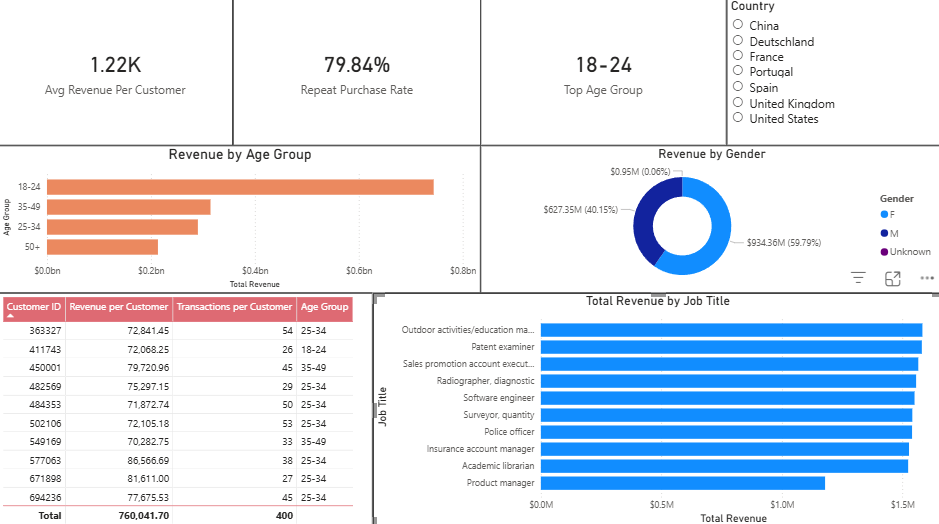

The page's visual inventory and layout, read from the dashboard file:
{"tool":"powerbi","page":{"name":"Customer Insights","canvas":[1280,720],"ordinal":1},"visuals":[{"type":"card","fields":{"Values":["customers.Avg Order Per Customer"]},"box":[0,0,318.2,200],"z":0},{"type":"listSlicer","fields":{"Values":["customers.Country"]},"box":[988.3,0,292.2,200],"z":1000},{"type":"card","fields":{"Values":["transactions.Repeat Purchase Rate"]},"box":[318.2,0,336.4,200],"z":1001},{"type":"card","fields":{"Values":["customers.Top Age Group"]},"box":[654.5,0,333.8,200],"z":1002},{"type":"clusteredBarChart","title":"Revenue by Age Group","fields":{"Y":["customers.Total Revenue"],"Category":["customers.Age Group"]},"box":[0,200,654.5,200],"z":1003},{"type":"donutChart","title":"Revenue by Gender","fields":{"Y":["customers.Total Revenue"],"Category":["customers.Gender"]},"box":[654.5,200,626,200],"z":1004},{"type":"tableEx","fields":{"Values":["transactions.Customer ID","transactions.Revenue per Customer","transactions.Transactions per Customer","customers.Age Group"]},"box":[0,400,507.8,319.5],"z":1005},{"type":"clusteredBarChart","fields":{"Y":["customers.Total Revenue"],"Category":["customers.Job Title"]},"box":[507.8,400,772.7,319.5],"z":1006}]}

Visuals, with their boxes in screenshot pixels (x1, y1, x2, y2), scaled from the page's 1280x720 canvas onto the 939x524 screenshot:
card - customers.Avg Order Per Customer: [0, 0, 233, 146]
listSlicer - customers.Country: [725, 0, 938, 146]
card - transactions.Repeat Purchase Rate: [233, 0, 480, 146]
card - customers.Top Age Group: [480, 0, 725, 146]
"Revenue by Age Group" clusteredBarChart: [0, 146, 480, 291]
"Revenue by Gender" donutChart: [480, 146, 938, 291]
tableEx - transactions.Customer ID x transactions.Revenue per Customer: [0, 291, 373, 523]
clusteredBarChart - customers.Total Revenue x customers.Job Title: [373, 291, 938, 523]
